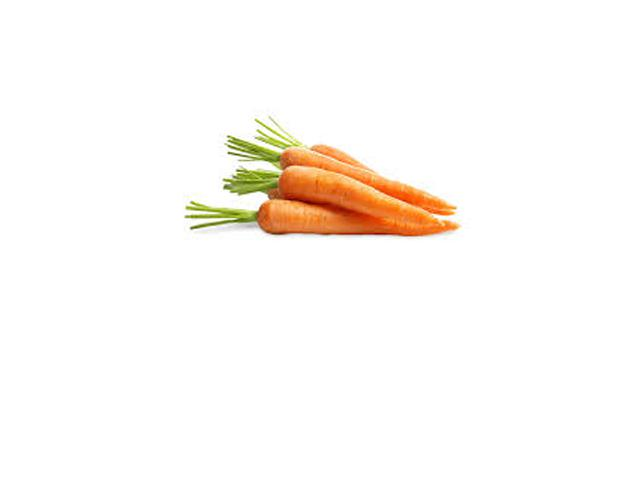carrot: (259, 199, 460, 242)
